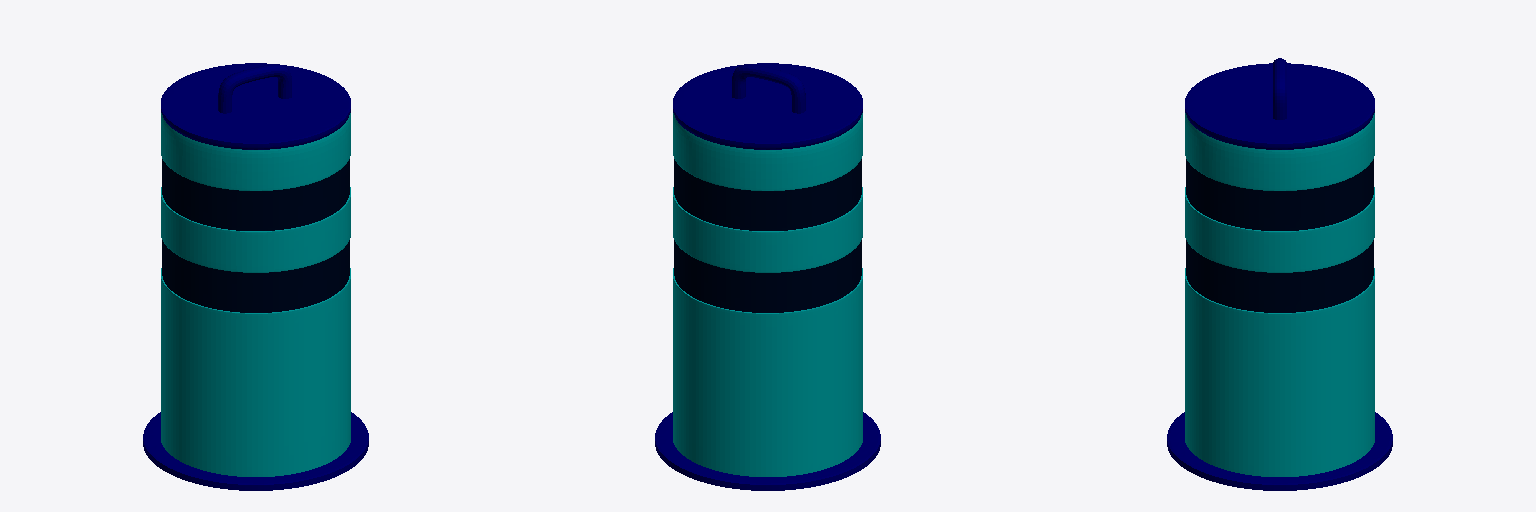
File: TrafficBlockBar02.obj
3 views of the same model, side by side, from view 1: azimuth 30°, elevation 25°; view 2: azimuth 150°, elevation 25°; view 3: azimuth 270°, elevation 25° (orthographic).
Parts seen in each view (by area): view 1: Box004; view 2: Box004; view 3: Box004.
Boxes of the visible parts, x1,y1,x2,y2 form: Box004: [143, 63, 368, 490]; Box004: [655, 63, 880, 490]; Box004: [1167, 58, 1392, 490].
Size of the model in its own units: 29.76 by 54.62 by 29.76.